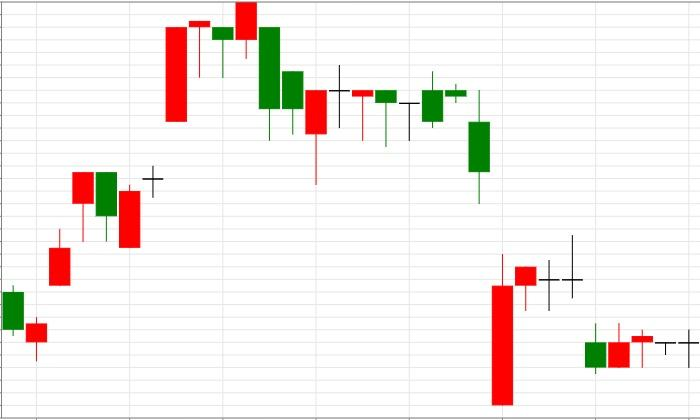bearish_engulfing_fall: (26, 172, 116, 361)
